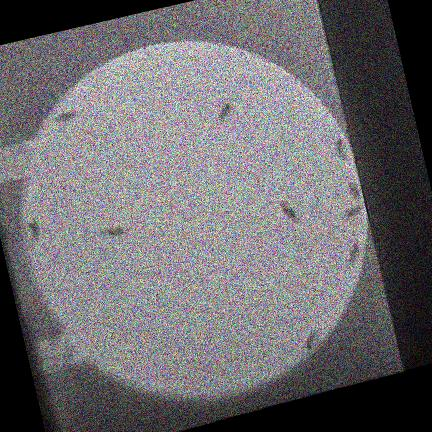fly: (280, 201, 299, 224), (218, 99, 234, 122), (303, 331, 320, 351), (343, 204, 364, 220), (102, 226, 129, 238), (333, 139, 348, 159), (53, 111, 76, 123), (348, 244, 361, 265), (28, 219, 40, 240), (348, 181, 360, 201)
